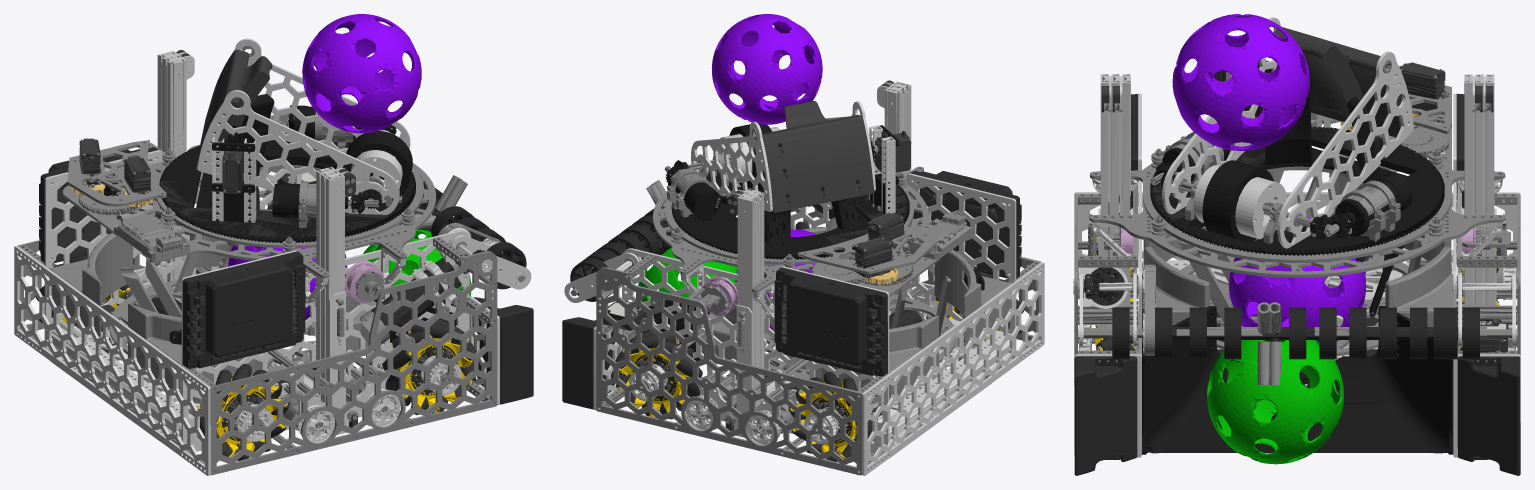
File: cupid.glb
3 views of the same model, side by side, from view 1: azimuth 30°, elevation 25°; view 2: azimuth 150°, elevation 25°; view 3: azimuth 270°, elevation 25° (orthographic). The views are drawn at different scales.
Parts seen in each view (by area): view 1: Body1, Body1_1527; view 2: Body1, Body1_1527; view 3: Body1_1527, Body1.
Part boxes in pixels (x1,y1,x2,y2): Body1: (14, 38, 531, 475); Body1_1527: (35, 14, 533, 460); Body1: (564, 81, 1044, 475); Body1_1527: (562, 14, 1024, 461); Body1_1527: (1074, 14, 1520, 475); Body1: (1073, 17, 1520, 457).
Bounding box in the file's own units: 0.4211 × 0.4169 × 0.4137.
Materials: 2 (2 with a texture image).
